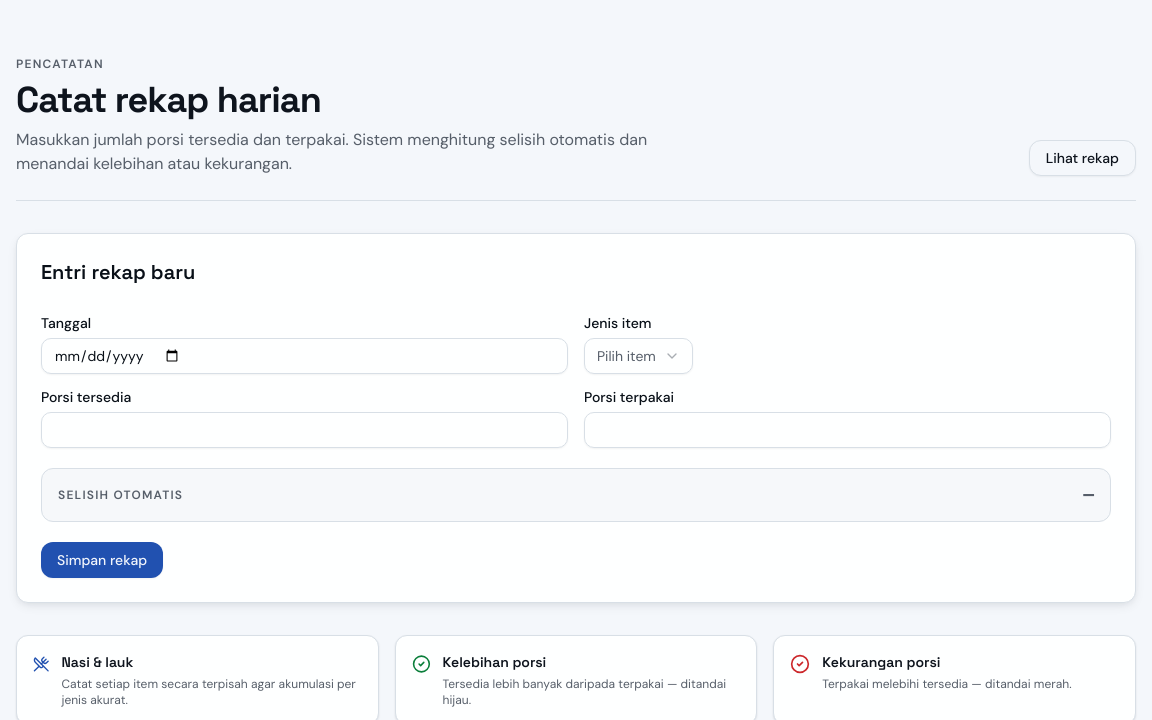
Test: CatatPage › computes surplus 20 from available 100 and used 80
This screenshot has width=1152, height=720.
In the number field labelled "Porsi tersedia": point(304, 430) [41,412,568,448], type "100"
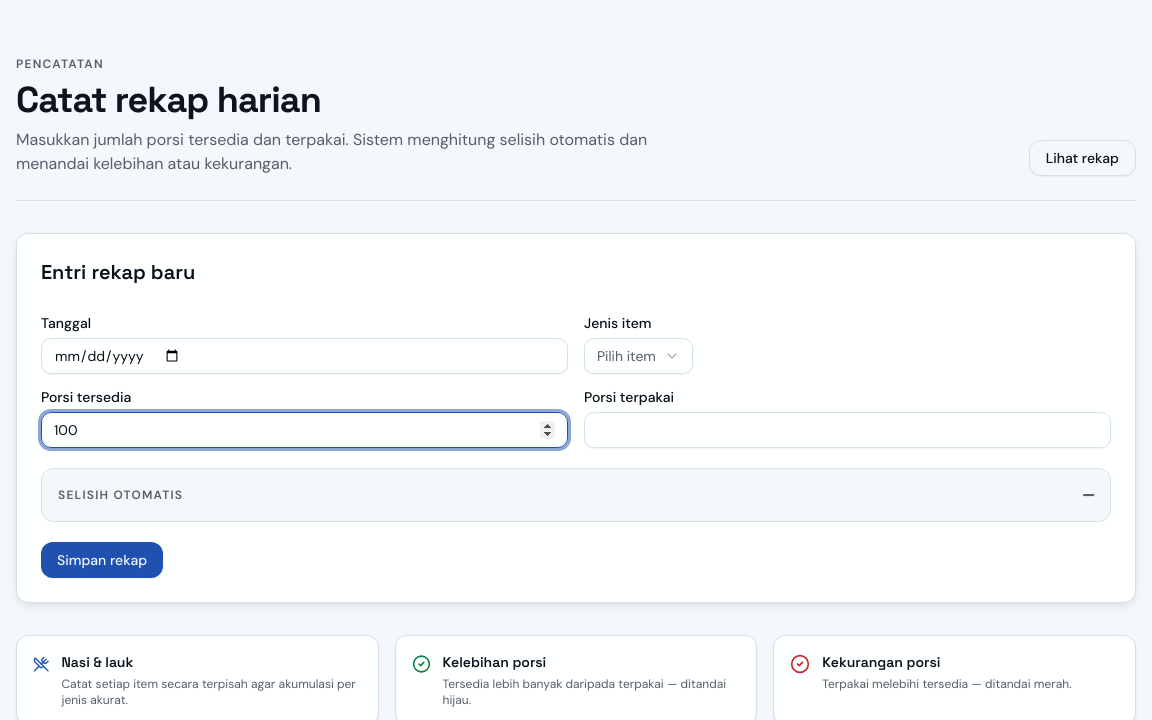
In the number field labelled "Porsi terpakai": point(848, 430) [584,412,1111,448], type "80"
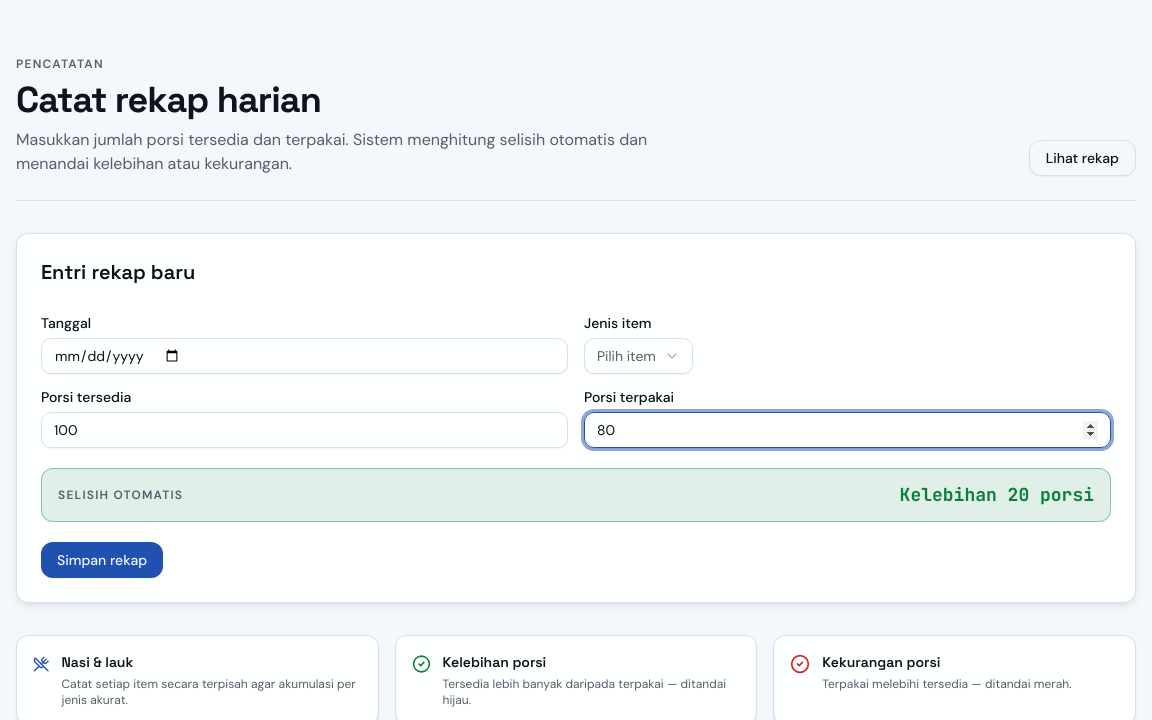
Expected: the text "Kelebihan 20 porsi" is shown, [900,481,1094,509]
